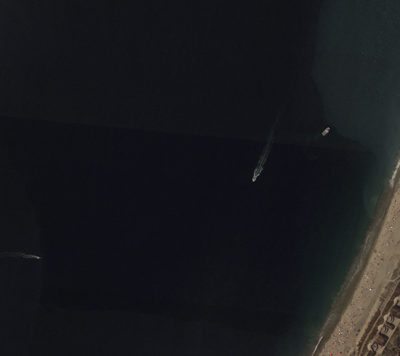boat: (322, 128, 331, 136), (253, 179, 255, 183), (38, 257, 41, 259)
